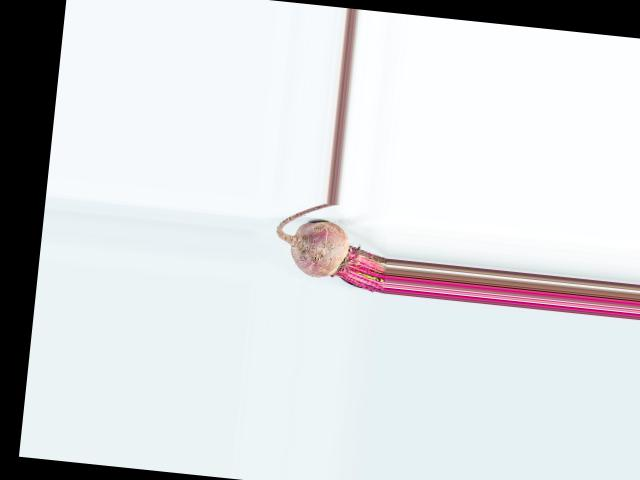beet: (271, 199, 393, 293)
